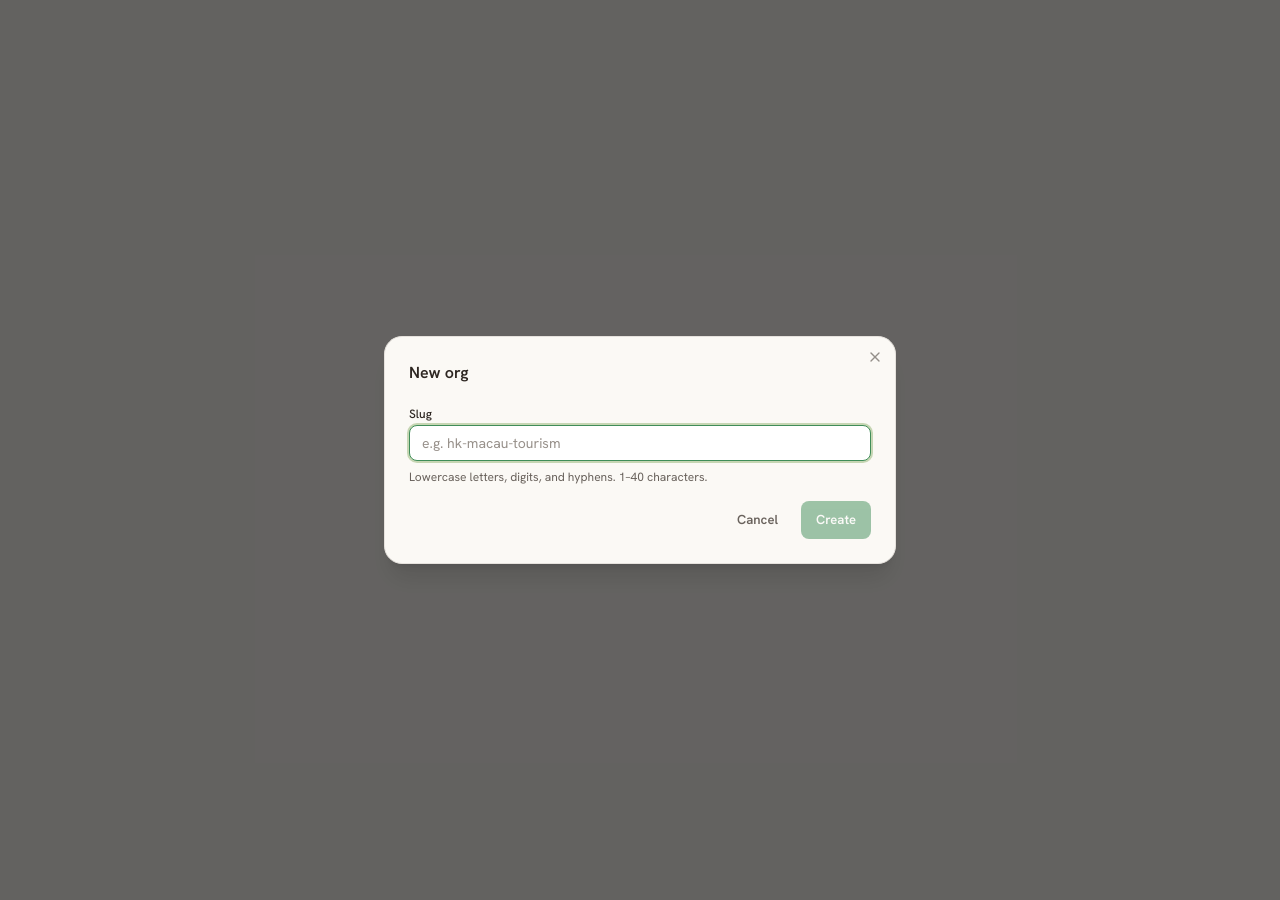
it: AddOrgDialog › surfaces 409 org_exists inline
The width and height of the screenshot is (1280, 900).
In the field labelled "Slug": (640, 443) [409, 425, 871, 461], type "taken"
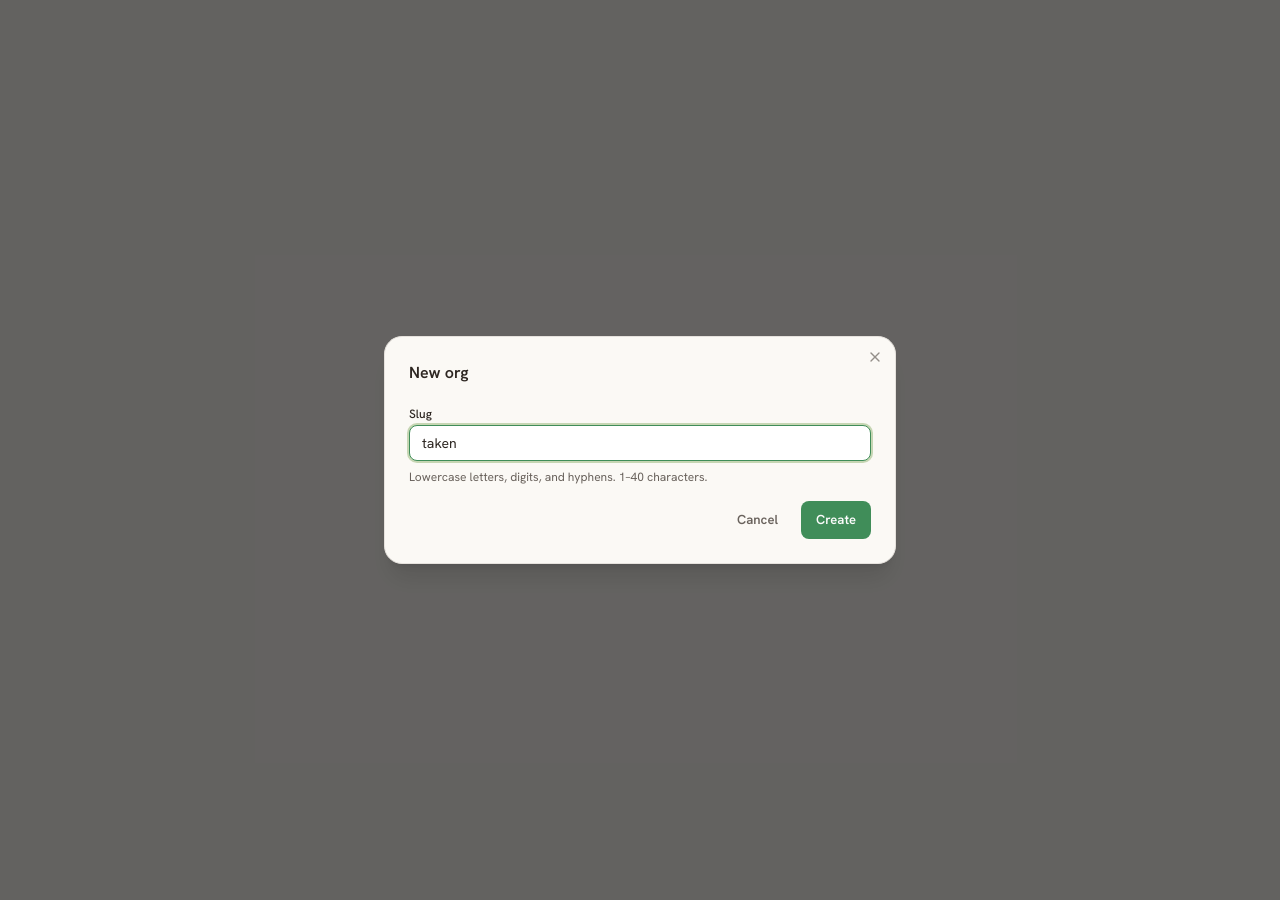
Click the button "Create": (836, 520) [801, 501, 871, 539]
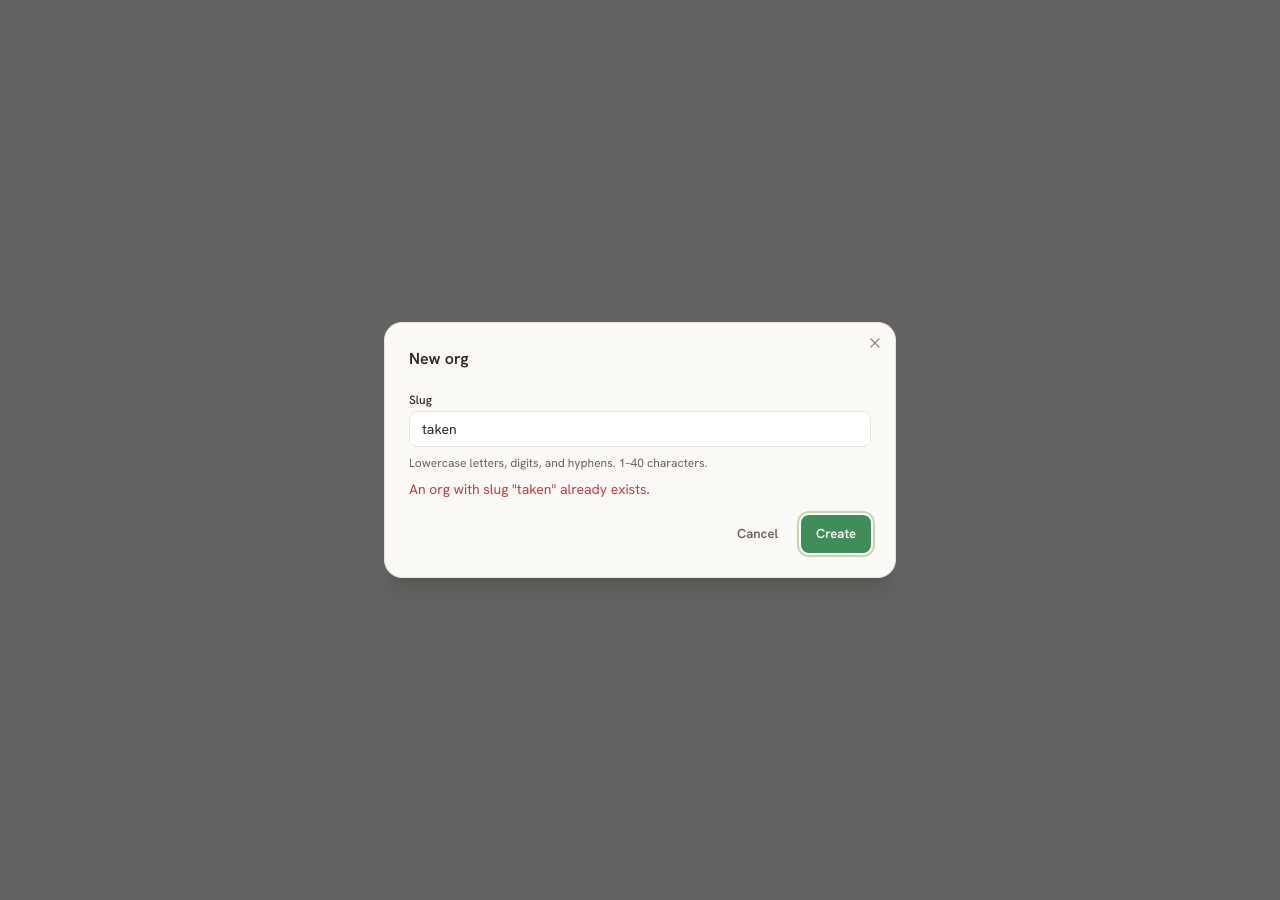
Result: the text "An org with slug \"taken\" already exists." is shown at [409, 480, 650, 498]
